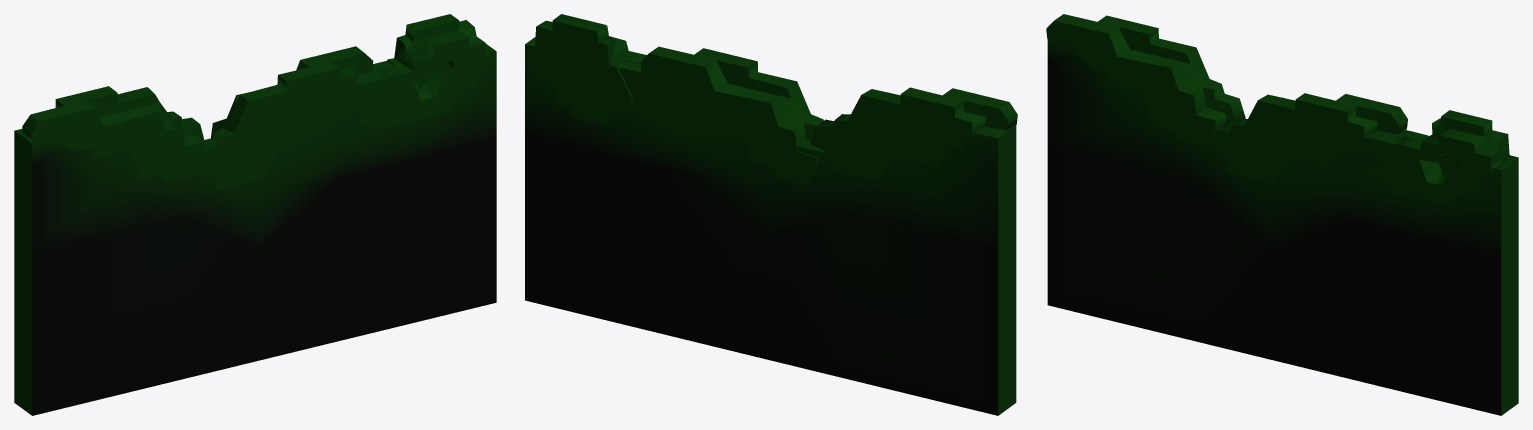
File: DBK_Brick_Tile_C.fbx
3 views of the same model, side by side, from view 1: azimuth 30°, elevation 25°; view 2: azimuth 150°, elevation 25°; view 3: azimuth 330°, elevation 25° (orthographic). The views are drawn at different scales.
Visible parts, largest first — view 1: DBK_Brick_Tile_C; view 2: DBK_Brick_Tile_C; view 3: DBK_Brick_Tile_C.
Boxes of the visible parts, x1,y1,x2,y2 form: DBK_Brick_Tile_C: [14, 14, 496, 415]; DBK_Brick_Tile_C: [525, 14, 1017, 415]; DBK_Brick_Tile_C: [1046, 14, 1518, 415].
Size of the model in its own units: 301 by 181 by 21.05.
